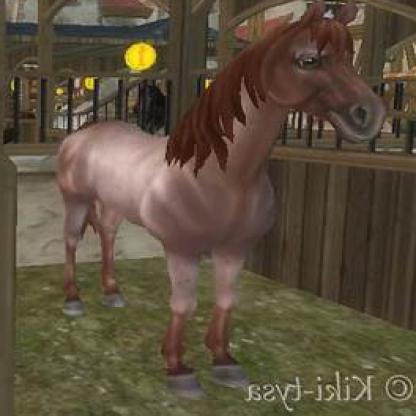horse: (57, 0, 388, 397)
